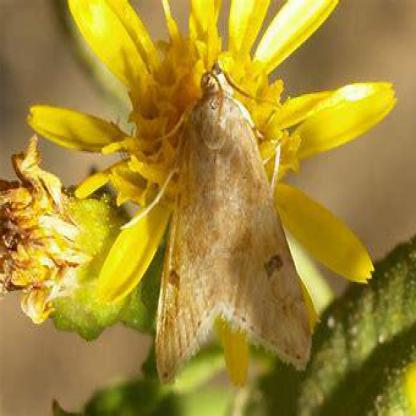Hellula undalis: (152, 48, 319, 394)
